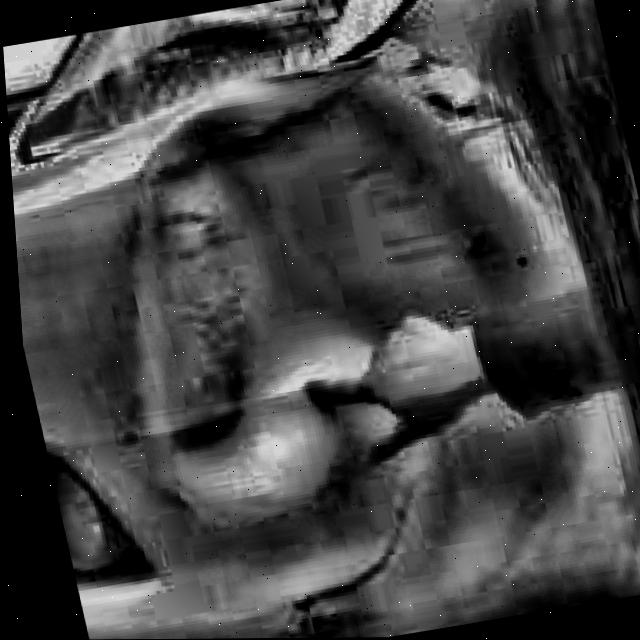bumper_dent: (78, 56, 588, 528)
